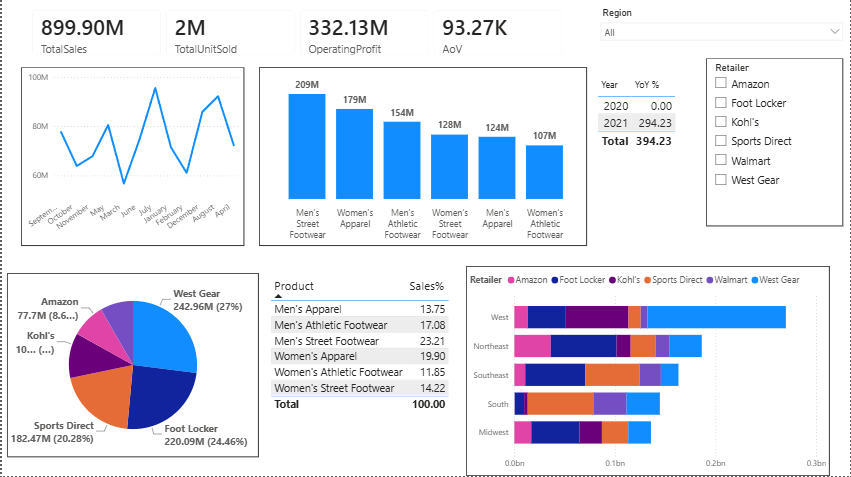

The dashboard page shown, as its layout file describes it:
{"tool":"powerbi","page":{"name":"Adidas Dashboard","canvas":[1280,720],"ordinal":0},"visuals":[{"type":"multiRowCard","title":"Business Performance","fields":{"Values":["Sum(Sales.Total Sales)","Sales.TotalProfit","Sum(Sales.Units Sold)","Retailer.Avg_PricePerUnit"]},"box":[14.6,67.3,146.3,308.8],"z":0},{"type":"clusteredColumnChart","title":"Sales by Product","fields":{"Category":["Products.Product"],"Y":["Retailer.Total_SaleAmt"]},"box":[174.1,67.3,396.6,308.8],"z":1000},{"type":"donutChart","title":" Retailer Profit Distbn","fields":{"Category":["Retailer.Retailer"],"Y":["Sales.TotalProfit"]},"box":[586.8,67.3,319,308.8],"z":2000},{"type":"areaChart","title":"Sales Trends","fields":{"Category":["Date.Invoice Date.Variation.Date Hierarchy.Year","Date.Invoice Date.Variation.Date Hierarchy.Quarter","Date.Invoice Date.Variation.Date Hierarchy.Month","Date.Invoice Date.Variation.Date Hierarchy.Day"],"Y":["Sum(Sales.Total Sales)"]},"box":[920.5,67.3,348.3,308.8],"z":3000},{"type":"tableEx","fields":{"Values":["Products.Product","Sum(Sales.Total Sales)"]},"box":[14.6,395.1,311.7,191.7],"z":4000},{"type":"clusteredBarChart","title":"Sales by Sales Method","fields":{"Category":["Sales.Sales Method"],"Y":["Sum(Sales.Total Sales)"]},"box":[977.1,587.1,291.4,132.9],"z":5000},{"type":"shapeMap","title":"Total Sales by State","fields":{"Category":["Retailer.State"],"Value":["Sum(Sales.Total Sales)"]},"box":[338.6,395.7,344.3,324.3],"z":6000},{"type":"tableEx","fields":{"Values":["Retailer.State","Products.Product","Sum(Sales.Total Sales)","Sum(Sales.Units Sold)","Sum(Sales.Operating Profit)"]},"box":[692.2,395.1,576.6,181.5],"z":7000},{"type":"pivotTable","fields":{"Rows":["Retailer.Region","Retailer.City"],"Values":["Sum(Sales.Total Sales)","Sum(Sales.Operating Margin)"]},"box":[692.2,586.8,273.7,128.8],"z":8000},{"type":"slicer","fields":{"Values":["Retailer.Retailer"]},"box":[1061,7.3,207.8,52.7],"z":10000},{"type":"slicer","fields":{"Values":["Products.Product"]},"box":[828.3,7.3,221,52.7],"z":11000},{"type":"textbox","box":[14.6,7.3,523.9,52.7],"z":12000},{"type":"slicer","fields":{"Values":["Retailer.City"]},"box":[562,7.3,238.5,52.7],"z":13000}]}

Visuals, with their boxes in screenshot pixels (x1, y1, x2, y2), scaled from the page's 1280x720 canvas onto the 851x477 screenshot:
"Business Performance" multiRowCard: 10 45 107 249
"Sales by Product" clusteredColumnChart: 116 45 379 249
" Retailer Profit Distbn" donutChart: 390 45 602 249
"Sales Trends" areaChart: 612 45 844 249
tableEx - Products.Product x Sum(Sales.Total Sales): 10 262 217 389
"Sales by Sales Method" clusteredBarChart: 650 389 843 476
"Total Sales by State" shapeMap: 225 262 454 476
tableEx - Retailer.State x Products.Product: 460 262 844 382
pivotTable - Retailer.Region x Retailer.City: 460 389 642 474
slicer - Retailer.Retailer: 705 5 844 40
slicer - Products.Product: 551 5 698 40
textbox: 10 5 358 40
slicer - Retailer.City: 374 5 532 40
